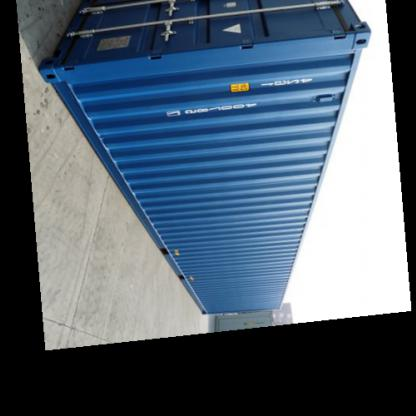Damage: (184, 267, 206, 287), (171, 246, 188, 260)
